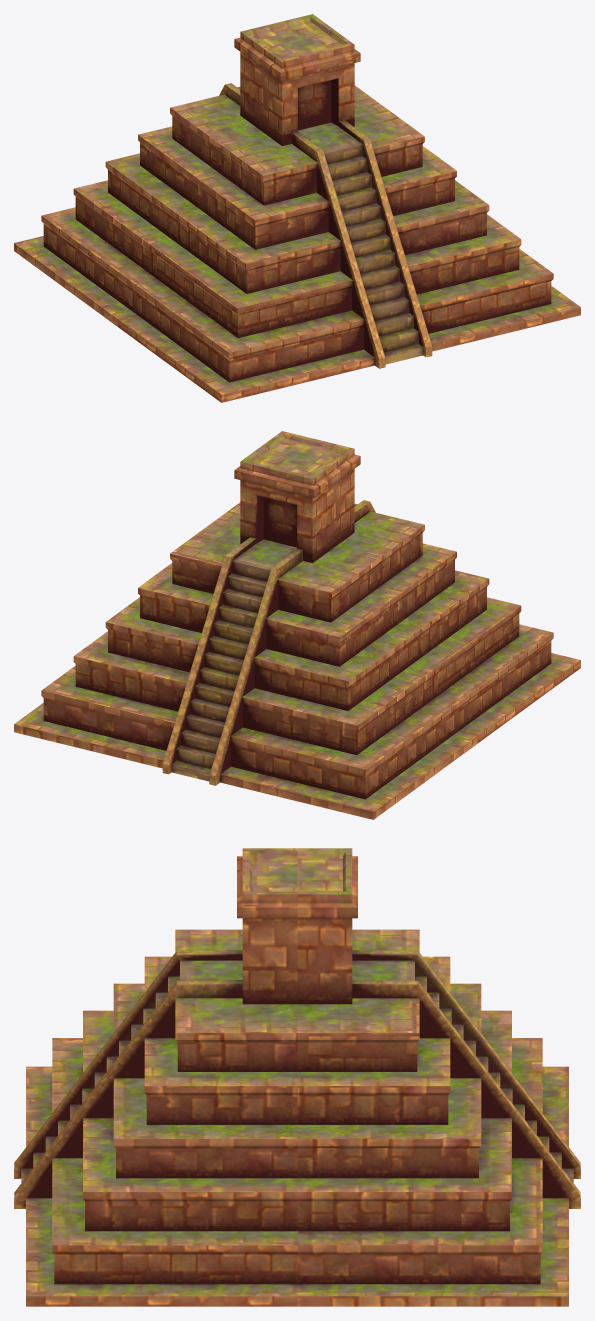
Rendered from jungle_env_pyramid.gltf.
3 views of the same model, one above another, from view 1: azimuth 30°, elevation 25°; view 2: azimuth 150°, elevation 25°; view 3: azimuth 270°, elevation 25° (orthographic). The views are drawn at different scales.
Visible parts, largest first — view 1: jungle_env_pyramid_glb; view 2: jungle_env_pyramid_glb; view 3: jungle_env_pyramid_glb.
Boxes of the visible parts, <box> form: jungle_env_pyramid_glb: <box>14,14,580,402</box>; jungle_env_pyramid_glb: <box>14,431,580,819</box>; jungle_env_pyramid_glb: <box>14,848,580,1306</box>.
Size of what is drawn, in the model's own units: 15.38 by 10.01 by 16.05.
1 material, 1 textured.
